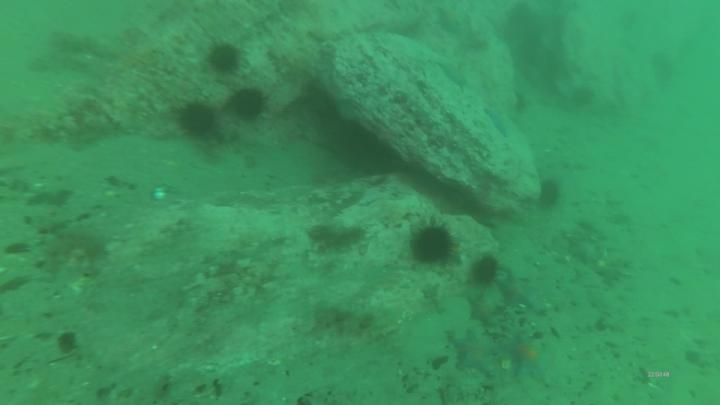echinus: (409, 220, 460, 270), (176, 101, 222, 140), (205, 41, 247, 78), (232, 85, 269, 124), (468, 252, 501, 289), (537, 176, 565, 214)
holothurian: (314, 303, 380, 343), (306, 219, 372, 252)
starfish: (498, 325, 555, 389), (444, 328, 504, 383), (495, 266, 540, 313), (466, 289, 505, 328)
